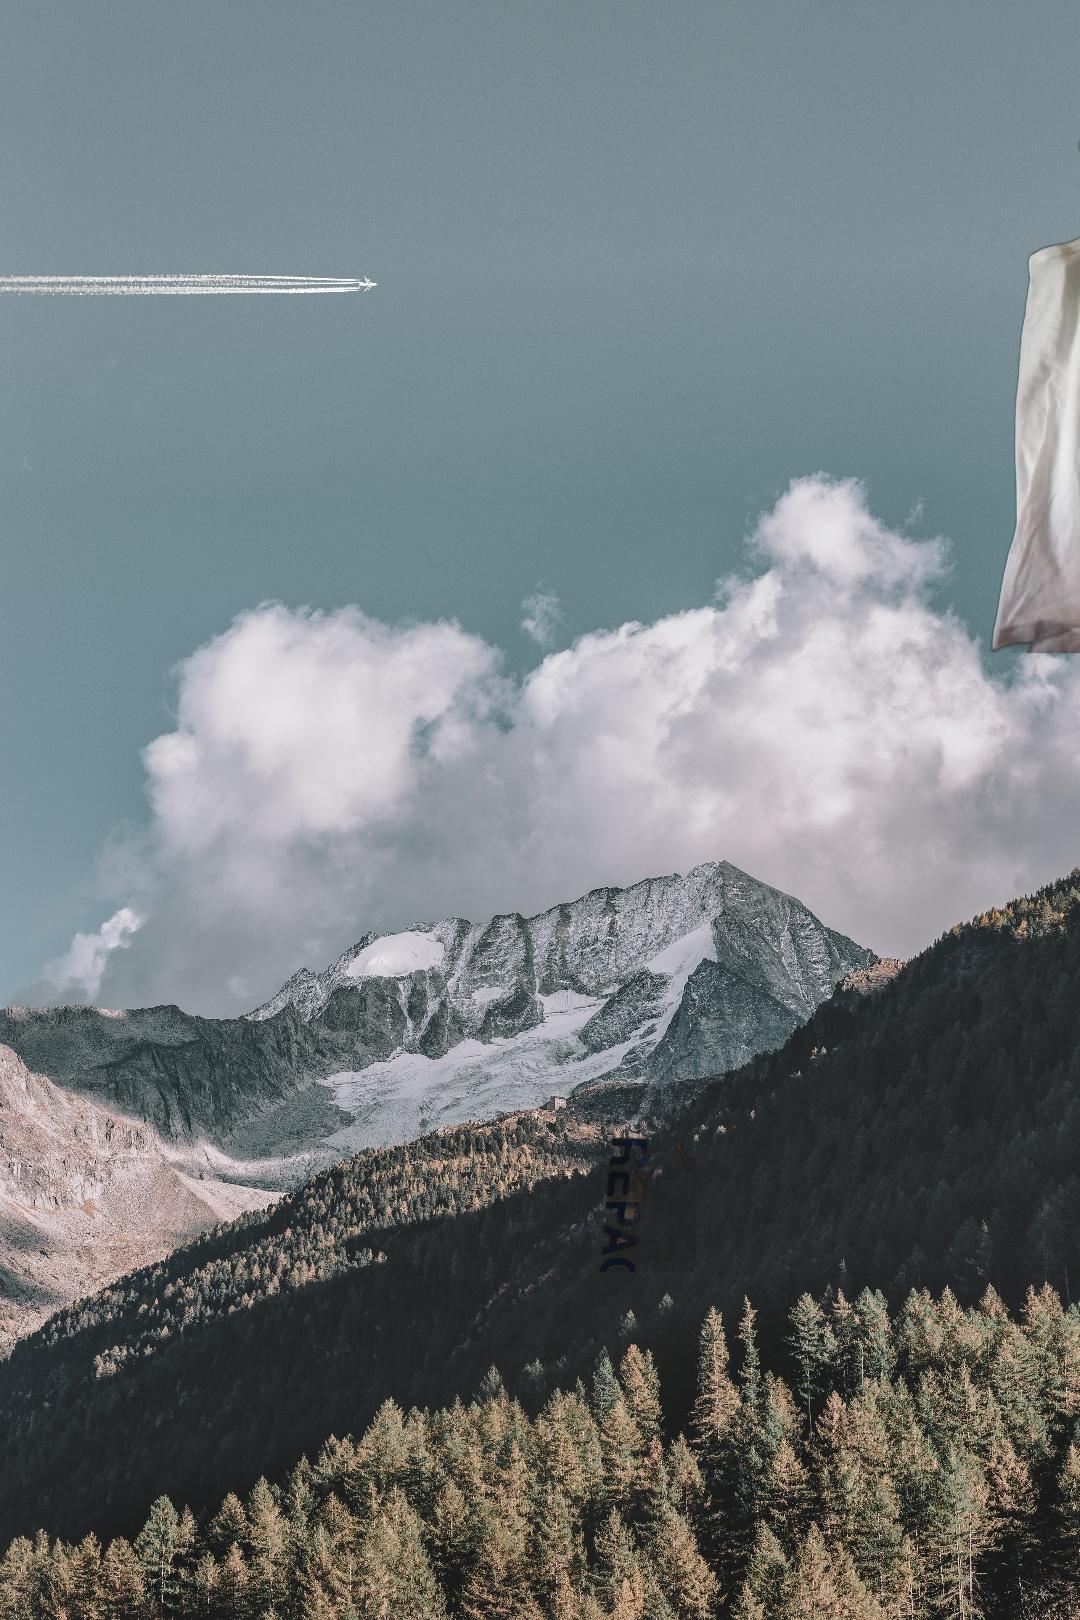clothes: (986, 123, 1080, 653)
trashbox-cardboard: (451, 888, 695, 1272)
